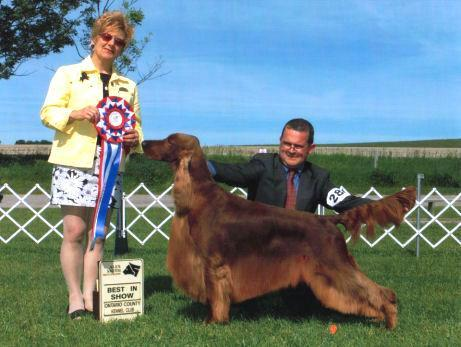Irish_setter: (142, 133, 415, 331)
